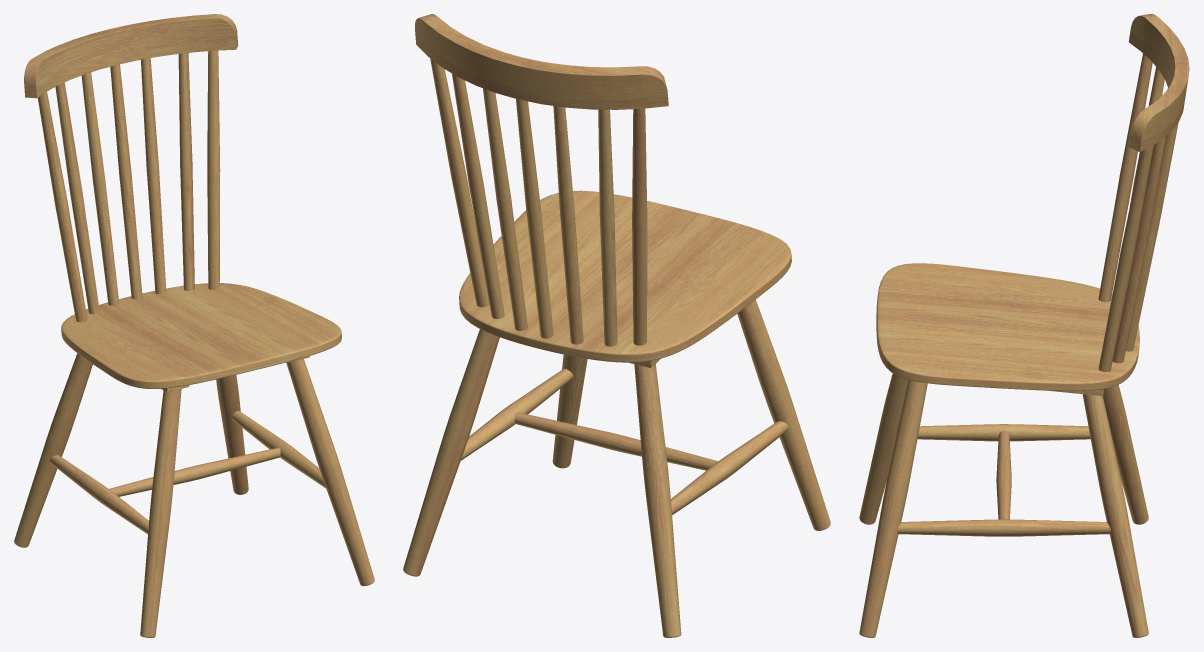
File: chair_12_04.001.fbx
The picture shows the model from 3 angles, left to right: view 1: azimuth 30°, elevation 25°; view 2: azimuth 150°, elevation 25°; view 3: azimuth 270°, elevation 25°; orthographic projection. The views are drawn at different scales.
Visible parts, largest first — view 1: chair_12_04.001; view 2: chair_12_04.001; view 3: chair_12_04.001.
Part boxes in pixels (<box>): chair_12_04.001: <box>14,14,374,637</box>; chair_12_04.001: <box>403,14,830,637</box>; chair_12_04.001: <box>859,14,1189,637</box>.
Size of the model in its own units: 45.05 by 88.57 by 51.27.
1 material, 1 textured.
